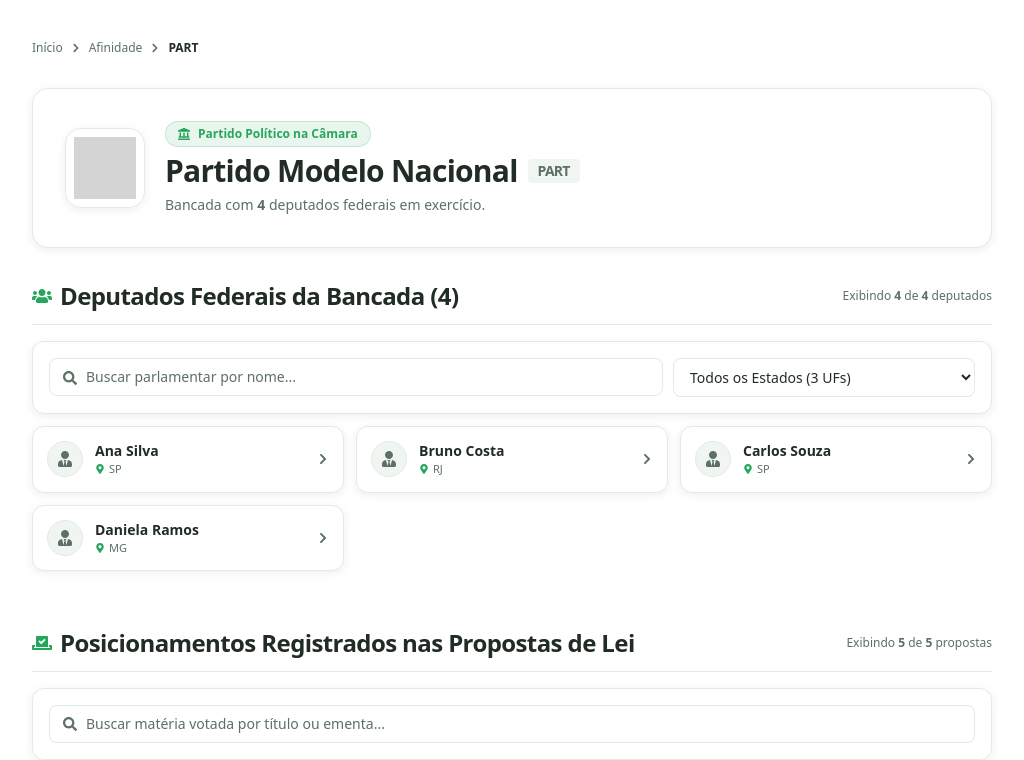
Scenario: PartyDetailsClient - Bancada e Proposições › filtra deputados da bancada por Estado (UF)
Select "SP" in the dropdown at {"x": 824, "y": 378}, box [673,358,975,397]
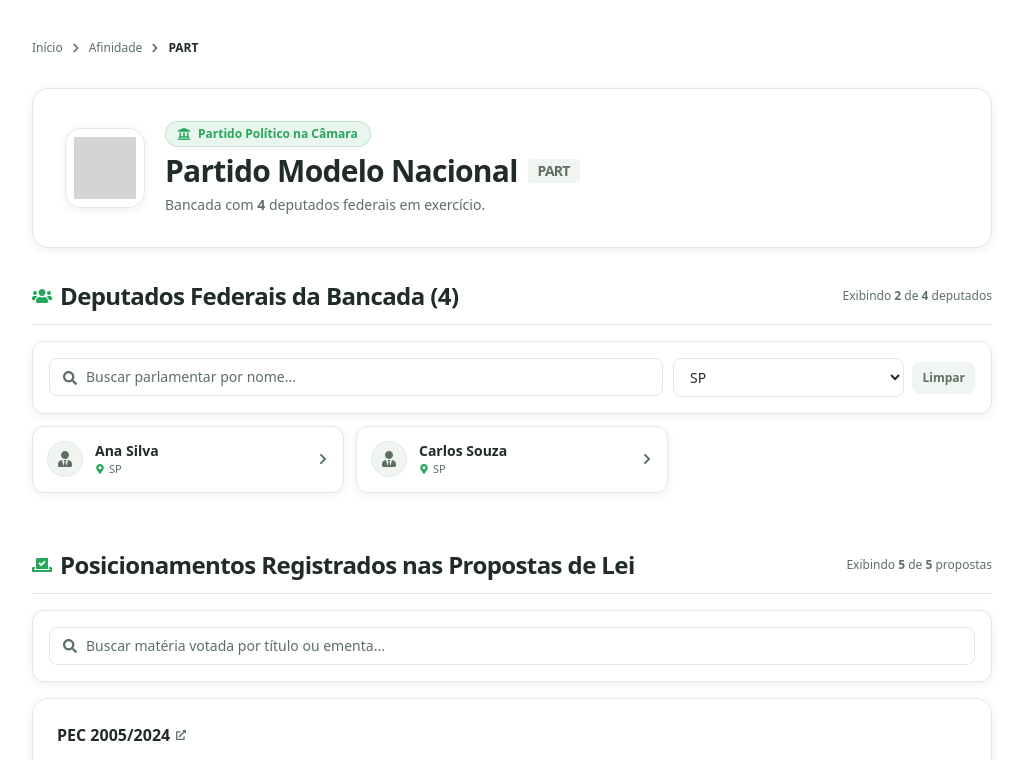
Expected: the heading "Ana Silva" is shown, [95,441,159,461]
Now the link "Bruno Costa" is gone
Now the link "Daniela Ramos" is gone
